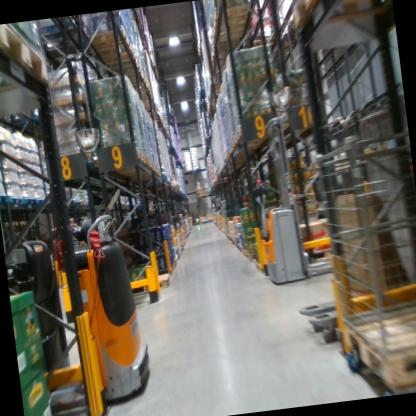pallet: (339, 302, 416, 394), (0, 20, 53, 93), (290, 0, 394, 30), (79, 25, 131, 63), (81, 45, 140, 71), (113, 268, 171, 293), (209, 22, 255, 51), (208, 1, 251, 32), (113, 146, 147, 169), (7, 190, 24, 205), (33, 197, 51, 210), (23, 193, 37, 208), (0, 191, 10, 209)
pallet_truck: (6, 208, 173, 416), (239, 101, 343, 290)
